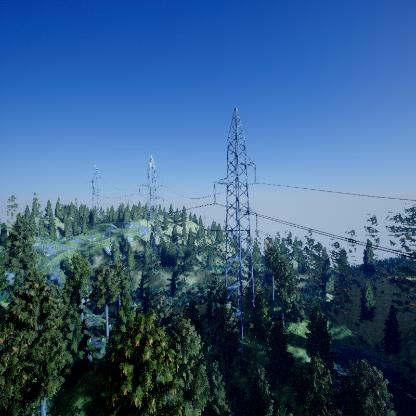tower: (207, 103, 265, 347), (136, 153, 166, 240)
